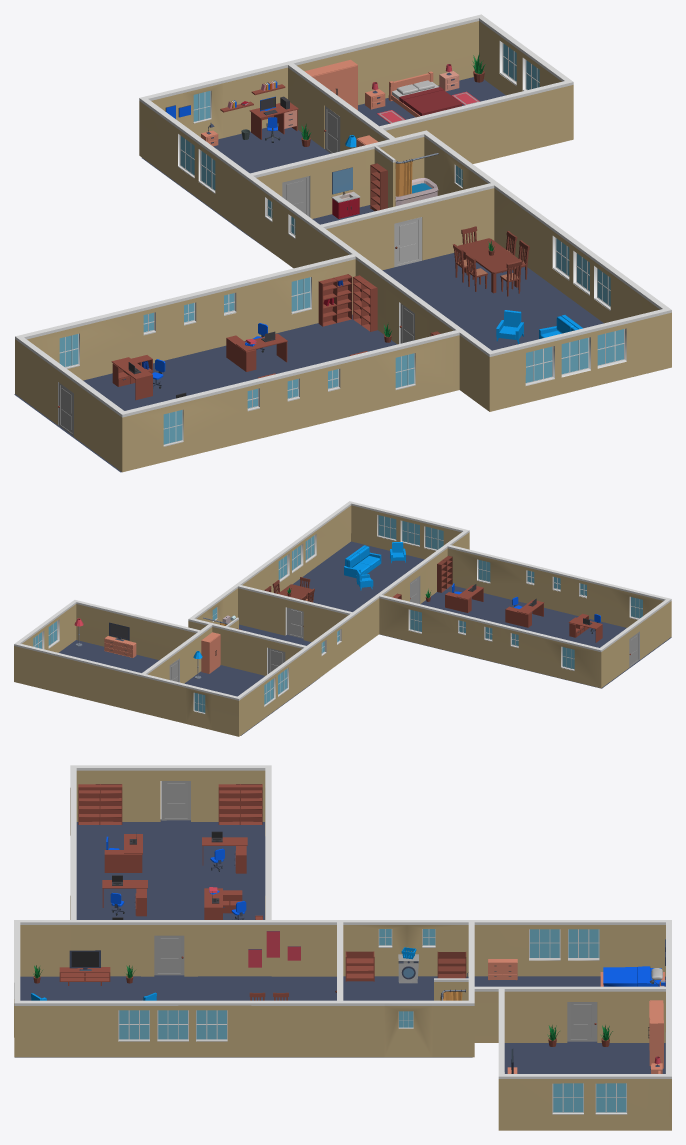
Rendered from Lvl2scene.fbx.
The picture shows the model from 3 angles, top to bottom: view 1: azimuth 30°, elevation 25°; view 2: azimuth 150°, elevation 25°; view 3: azimuth 270°, elevation 25°; orthographic projection. The views are drawn at different scales.
Visible parts, largest first — view 1: mesh_doublewall_window_small.107, mesh_doublewall_window_small.037, mesh_doublewall_window_small.066, Plane.011, MasterBed, shelf.002, MasterWardrobe, table, Desk.002, Desk.006, Door.002, bathtub (+6 smaller); view 2: mesh_doublewall_window_small.107, mesh_doublewall_window_small.037, mesh_doublewall_window_small.066, Plane.011, Sofa, Swaredrobe, Desk.001, Desk.003, Dresser, Desk.005, shelf.004, Door.002; view 3: mesh_doublewall_window_small.107, Plane.011, mesh_doublewall_window_small.066, mesh_doublewall_window_small.037, shelf.001, shelf, Door, Door.004, Bed(OneSide), Door.001, Desk.005, MasterWardrobe (+10 smaller).
Boxes of the visible parts, box(x1,y1,x2,y2) form: mesh_doublewall_window_small.107: box(139, 62, 671, 411); mesh_doublewall_window_small.037: box(15, 253, 464, 472); mesh_doublewall_window_small.066: box(285, 14, 573, 163); Plane.011: box(14, 77, 603, 472); MasterBed: box(388, 71, 462, 117); shelf.002: box(318, 274, 352, 326); MasterWardrobe: box(305, 59, 357, 110); table: box(458, 238, 525, 293); Desk.002: box(111, 355, 152, 400); Desk.006: box(226, 333, 287, 371); Door.002: box(394, 217, 421, 267); bathtub: box(395, 153, 438, 205); mesh_doublewall_window_small.107: box(143, 501, 469, 736); mesh_doublewall_window_small.037: box(376, 544, 671, 688); mesh_doublewall_window_small.066: box(14, 600, 203, 713); Plane.011: box(59, 541, 671, 735); Sofa: box(344, 545, 381, 578); Swaredrobe: box(201, 632, 220, 673); Desk.001: box(505, 599, 544, 627); Desk.003: box(445, 585, 483, 612); Dresser: box(104, 636, 136, 657); Desk.005: box(568, 613, 602, 642); shelf.004: box(437, 555, 452, 592); Door.002: box(287, 607, 303, 638); mesh_doublewall_window_small.107: box(14, 920, 671, 1057); Plane.011: box(15, 819, 665, 1073); mesh_doublewall_window_small.066: box(498, 986, 671, 1130); mesh_doublewall_window_small.037: box(70, 765, 271, 976); shelf.001: box(78, 784, 122, 824); shelf: box(218, 784, 262, 824); Door: box(154, 935, 184, 975); Door.004: box(567, 1002, 597, 1041); Bed(OneSide): box(600, 966, 664, 986); Door.001: box(161, 781, 190, 820); Desk.005: box(104, 834, 142, 872); MasterWardrobe: box(648, 1000, 663, 1068).
Bounding box in the file's own units: 171 × 14.11 × 152.
2 materials, 2 textured.
